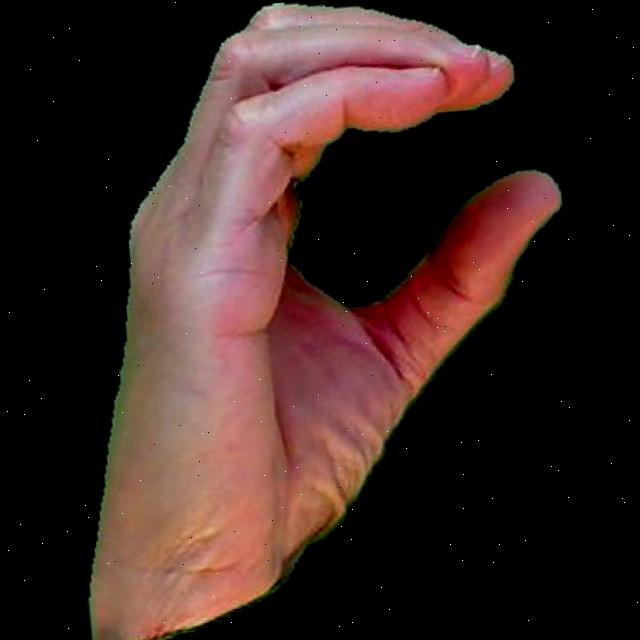c: (21, 0, 613, 640)
